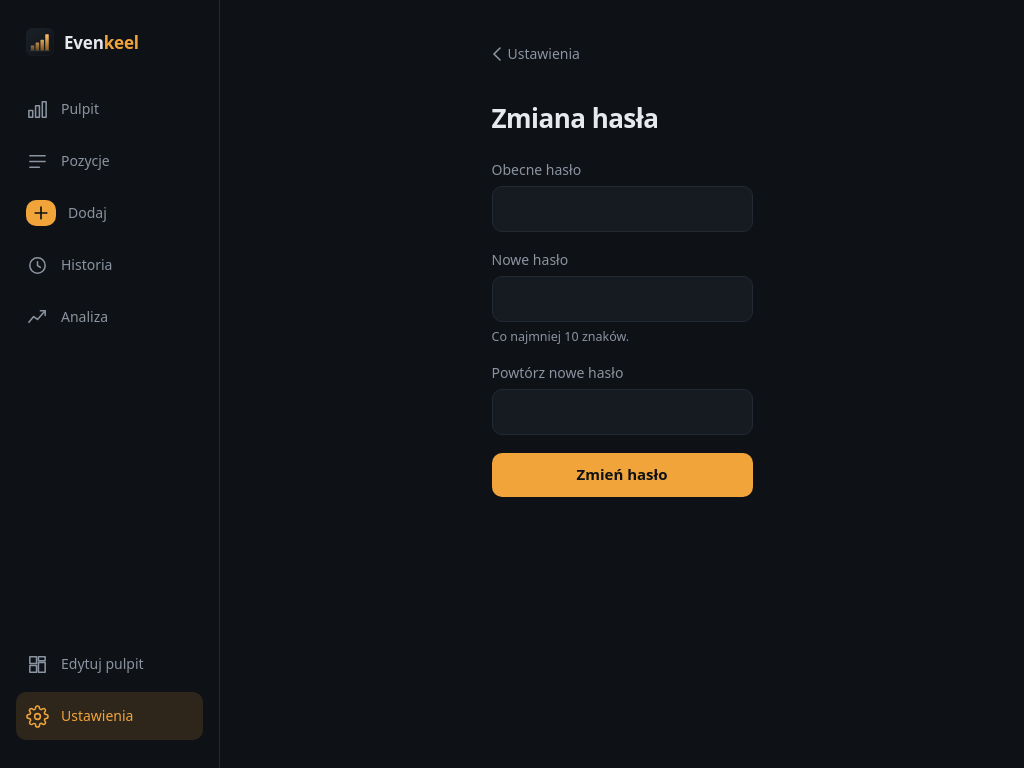
Test case: password change › changes the password and returns to the settings with a note
Type "bardzo-tajne-haslo" into the password field labelled "Obecne hasło" at (622, 209), box [492,186,752,232]
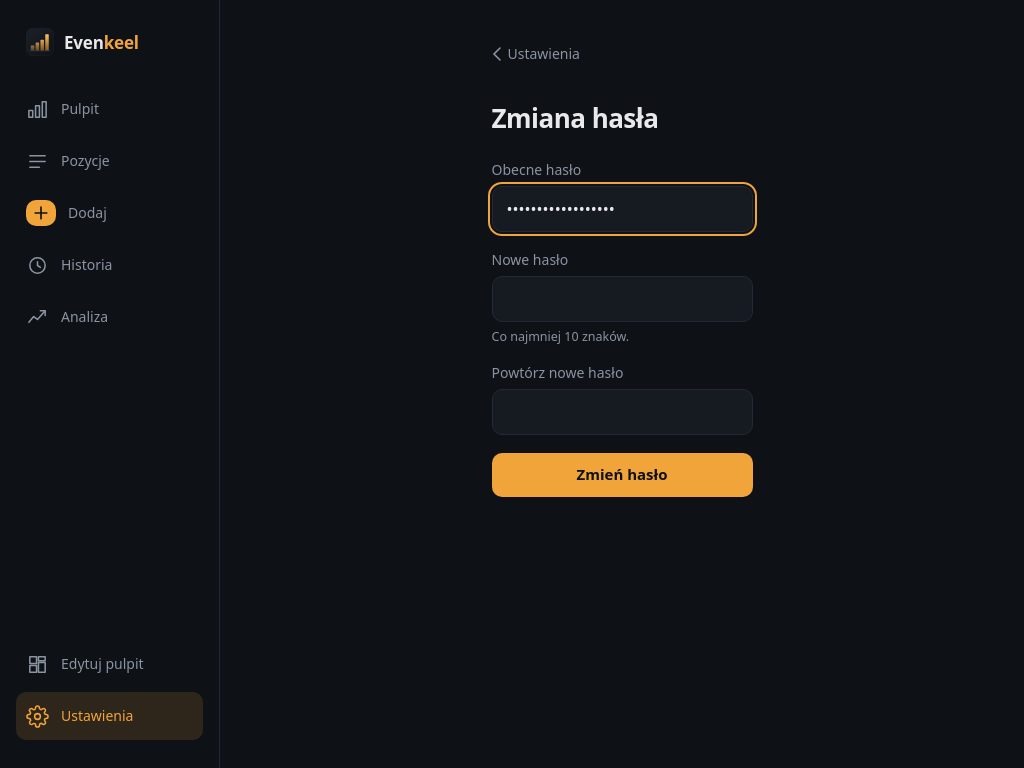
Type "jeszcze-bardziej-tajne" into the password field labelled "Nowe hasło" at (622, 299), box [492,276,752,322]
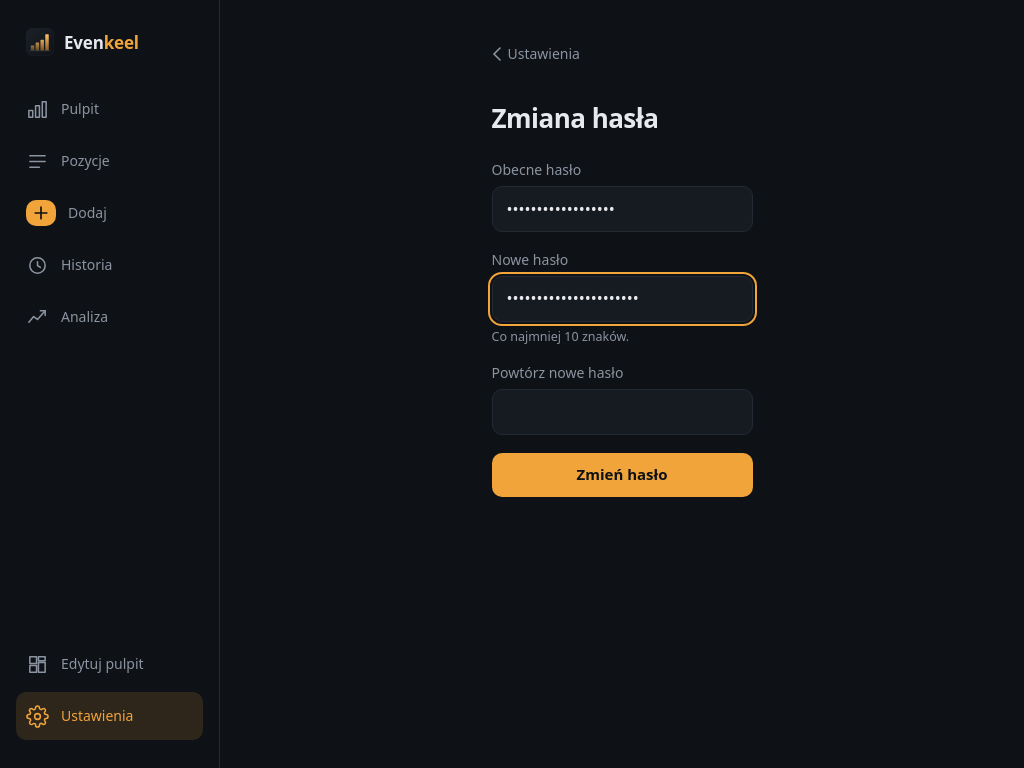
Type "jeszcze-bardziej-tajne" into the password field labelled "Powtórz nowe hasło" at (622, 412), box [492,389,752,435]
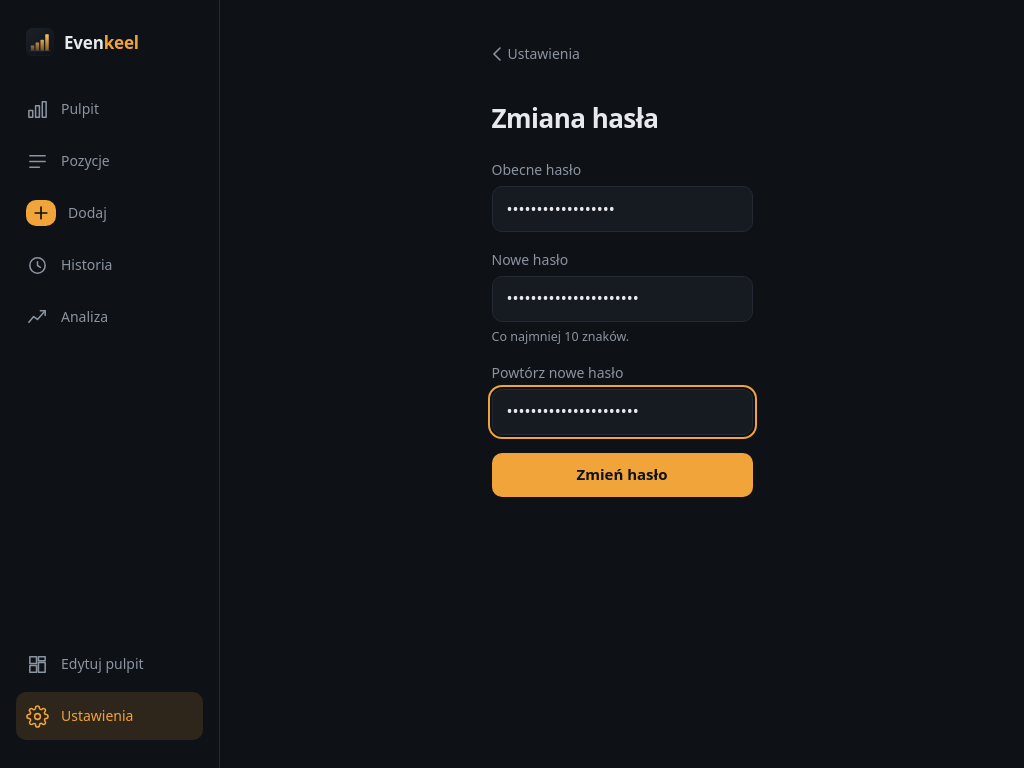
Click the button "Zmień hasło" at (622, 475), box [492,453,752,497]
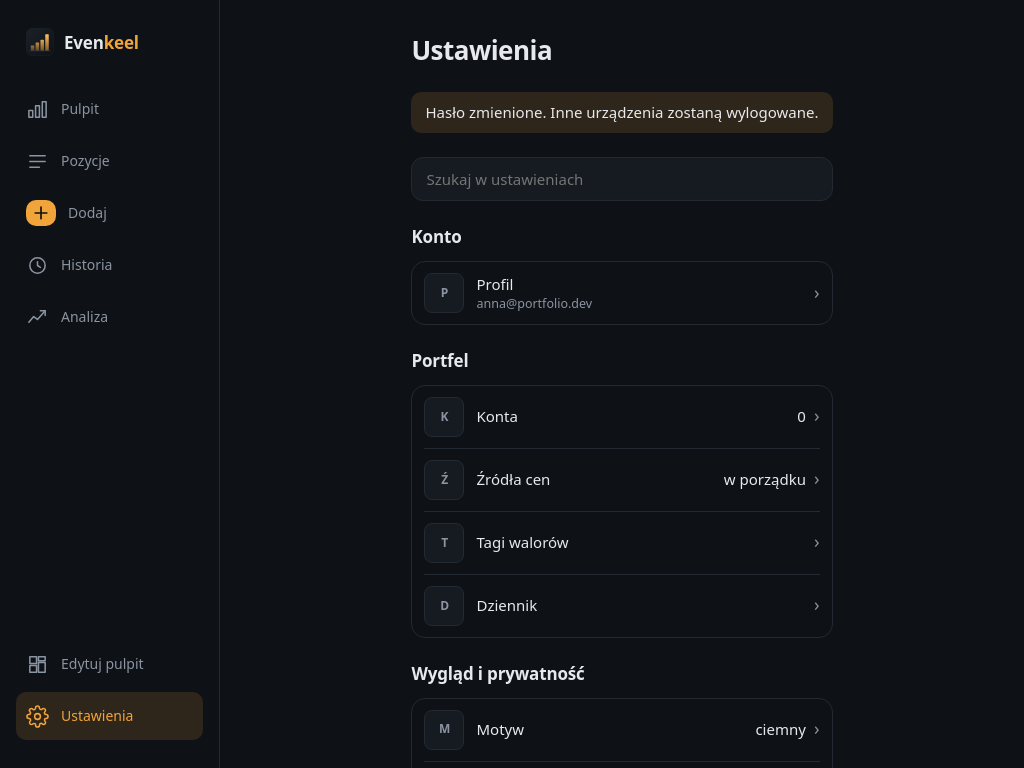
Result: the text "Hasło zmienione. Inne urządzenia zostaną wylogowane." is shown at [412,92,832,133]
